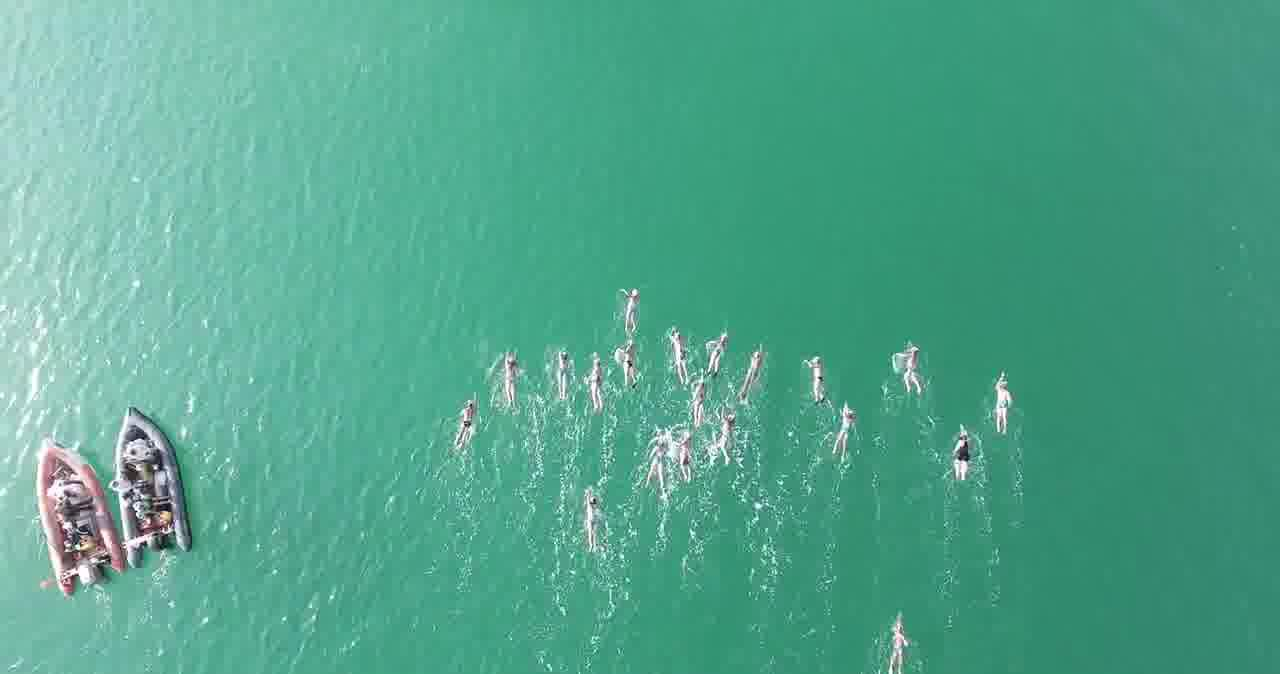human: (991, 368, 1016, 446), (577, 493, 611, 550), (692, 334, 727, 386), (449, 395, 483, 445), (884, 624, 914, 674), (902, 344, 925, 408), (738, 343, 762, 404), (644, 441, 669, 498), (716, 411, 741, 464), (832, 410, 857, 462), (616, 290, 643, 333), (949, 425, 970, 479), (689, 378, 707, 436), (588, 358, 605, 415), (672, 330, 690, 380), (621, 342, 639, 391), (681, 430, 694, 488), (506, 352, 518, 408), (557, 354, 570, 402), (814, 352, 822, 409)
